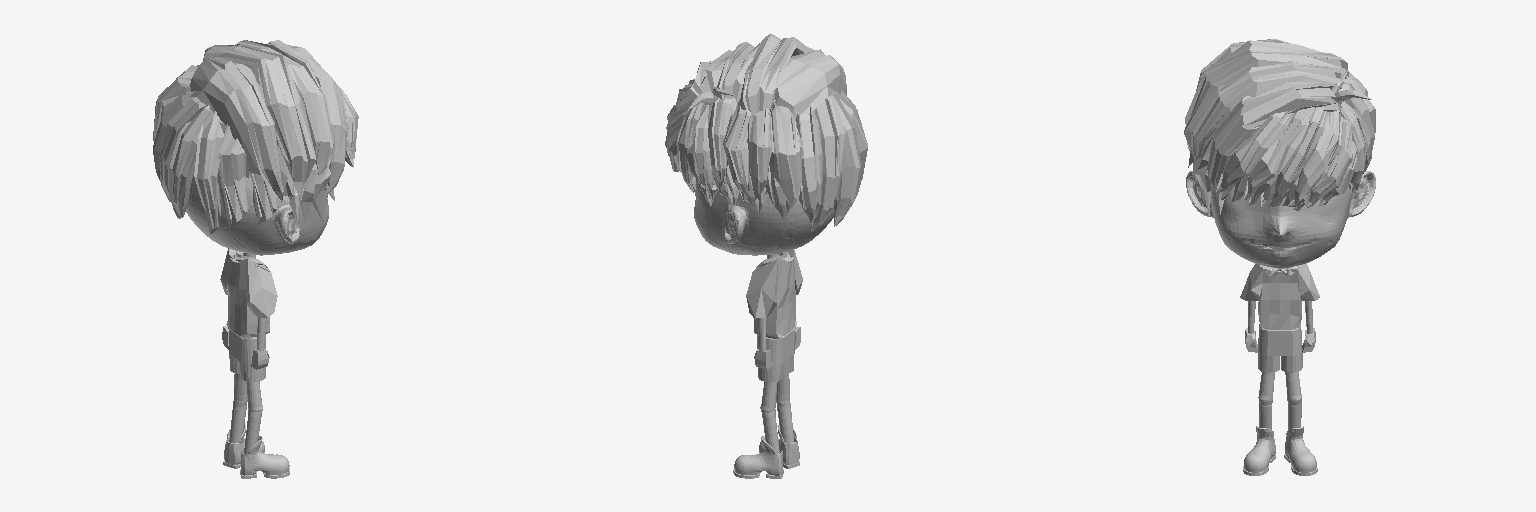
File: Boy Model OBJ.obj
The picture shows the model from 3 angles: view 1: azimuth 30°, elevation 25°; view 2: azimuth 150°, elevation 25°; view 3: azimuth 270°, elevation 25°; orthographic projection.
Parts seen in each view (by area): view 1: pasted__polySurface202 group; view 2: pasted__polySurface202 group; view 3: pasted__polySurface202 group.
Part boxes in pixels (left/top/right/bottom): pasted__polySurface202 group: left=153, top=40, right=358, bottom=478; pasted__polySurface202 group: left=665, top=34, right=867, bottom=478; pasted__polySurface202 group: left=1184, top=39, right=1375, bottom=475.
Size of the model in its own units: 2.14 by 4.93 by 2.04.